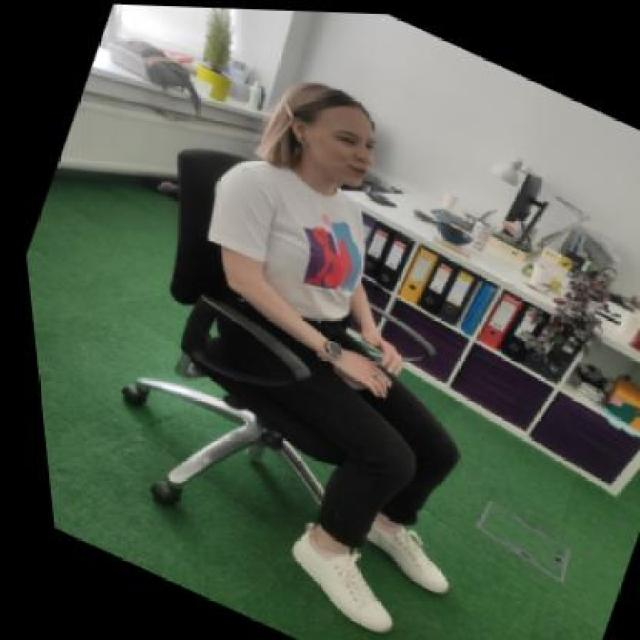chair: (21, 123, 505, 614)
